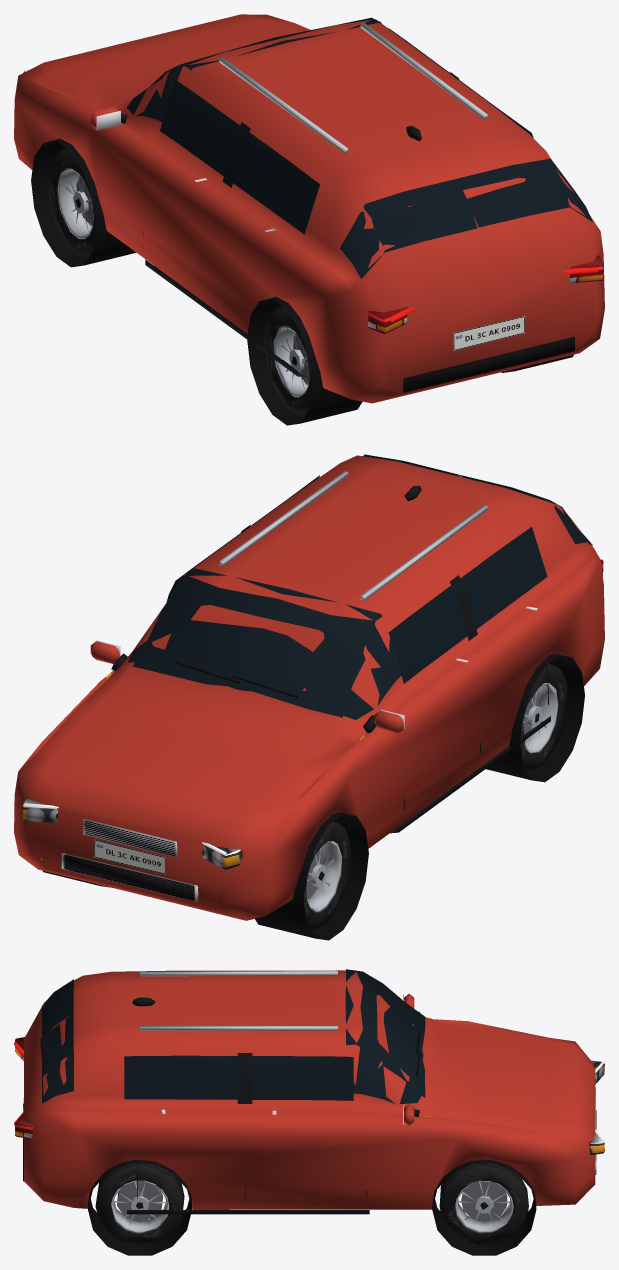
The model's file is suv_far.glb.
The picture shows the model from 3 angles, top to bottom: view 1: azimuth 30°, elevation 25°; view 2: azimuth 150°, elevation 25°; view 3: azimuth 270°, elevation 25°; orthographic projection. The views are drawn at different scales.
Parts seen in each view (by area): view 1: suv_CarPaint, suv_Glass, suv_Parts, suv_Tyre; view 2: suv_CarPaint, suv_Glass, suv_Parts, suv_Tyre; view 3: suv_CarPaint, suv_Glass, suv_Parts, suv_Tyre.
Part boxes in pixels (x1,y1,x2,y2): suv_CarPaint: (14,14,604,403); suv_Glass: (126,17,592,278); suv_Parts: (23,23,603,425); suv_Tyre: (48,148,312,415); suv_CarPaint: (14,455,604,920); suv_Glass: (128,454,592,720); suv_Parts: (23,471,603,940); suv_Tyre: (303,664,567,930); suv_CarPaint: (24,970,595,1209); suv_Glass: (40,969,425,1103); suv_Parts: (15,971,604,1255); suv_Tyre: (95,1163,528,1246).
Bounding box in the file's own units: 2.18 × 1.72 × 4.48.
Materials: 5 (3 with a texture image).
